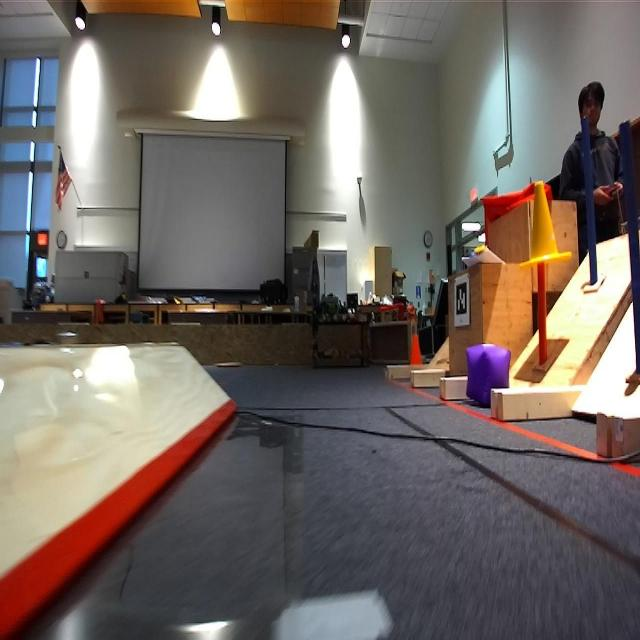frc_cone: (528, 180, 568, 268)
frc_cube: (468, 348, 510, 410)
